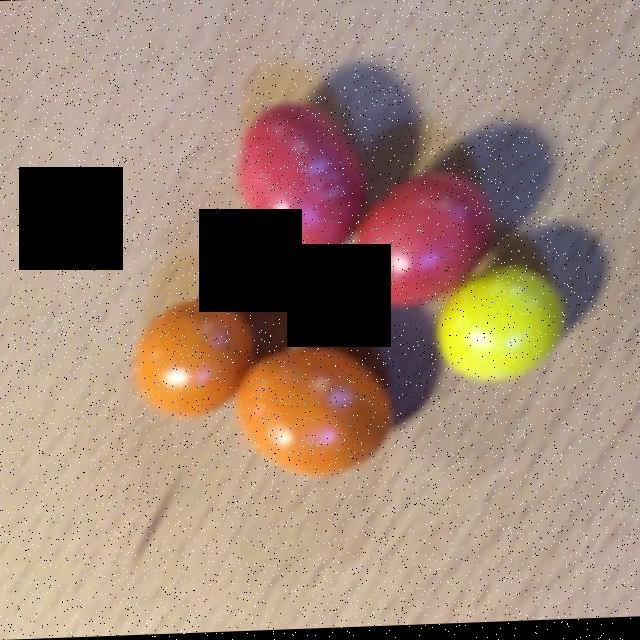m-m-s: (146, 107, 562, 471)
